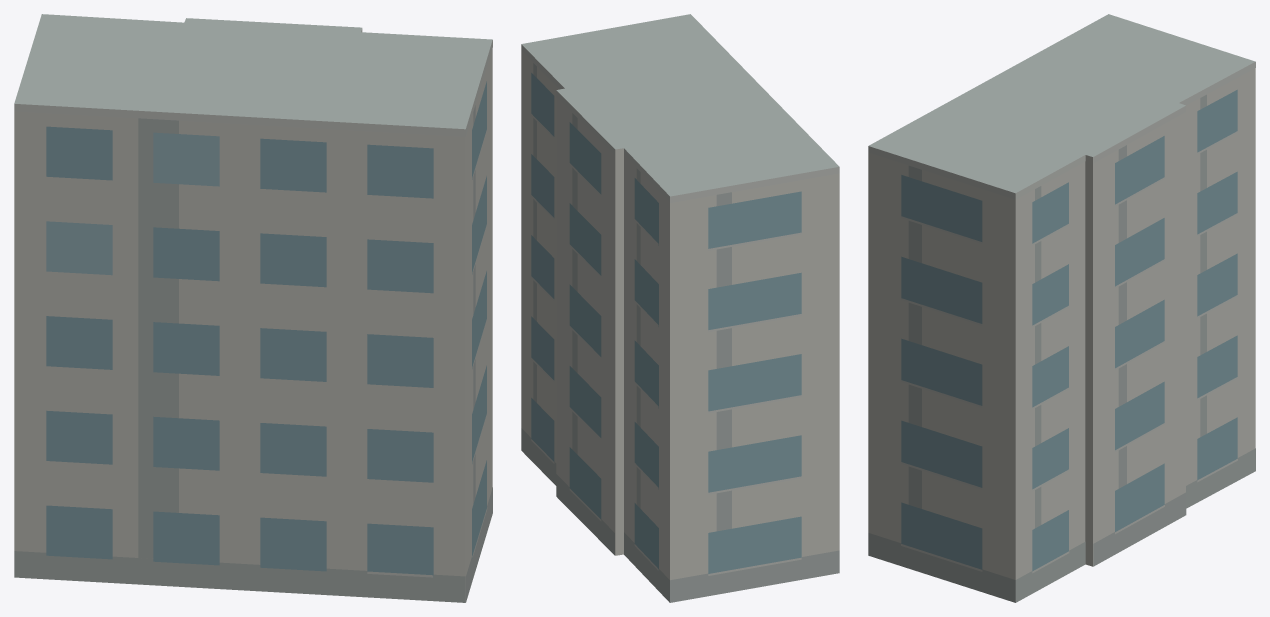
The model's file is survey-upis-32627426.glb.
3 views of the same model, side by side, from view 1: azimuth 30°, elevation 25°; view 2: azimuth 150°, elevation 25°; view 3: azimuth 270°, elevation 25° (orthographic). The views are drawn at different scales.
Parts seen in each view (by area): view 1: survey-upis-32627426.tmp; view 2: survey-upis-32627426.tmp; view 3: survey-upis-32627426.tmp.
Boxes of the visible parts, x1,y1,x2,y2 form: survey-upis-32627426.tmp: (14,14,492,602); survey-upis-32627426.tmp: (521,14,839,602); survey-upis-32627426.tmp: (868,14,1255,602).
Bounding box in the file's own units: 14.32 × 15.25 × 13.08.
